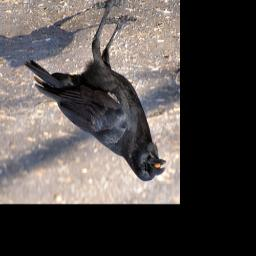Crow: (24, 0, 166, 183)
